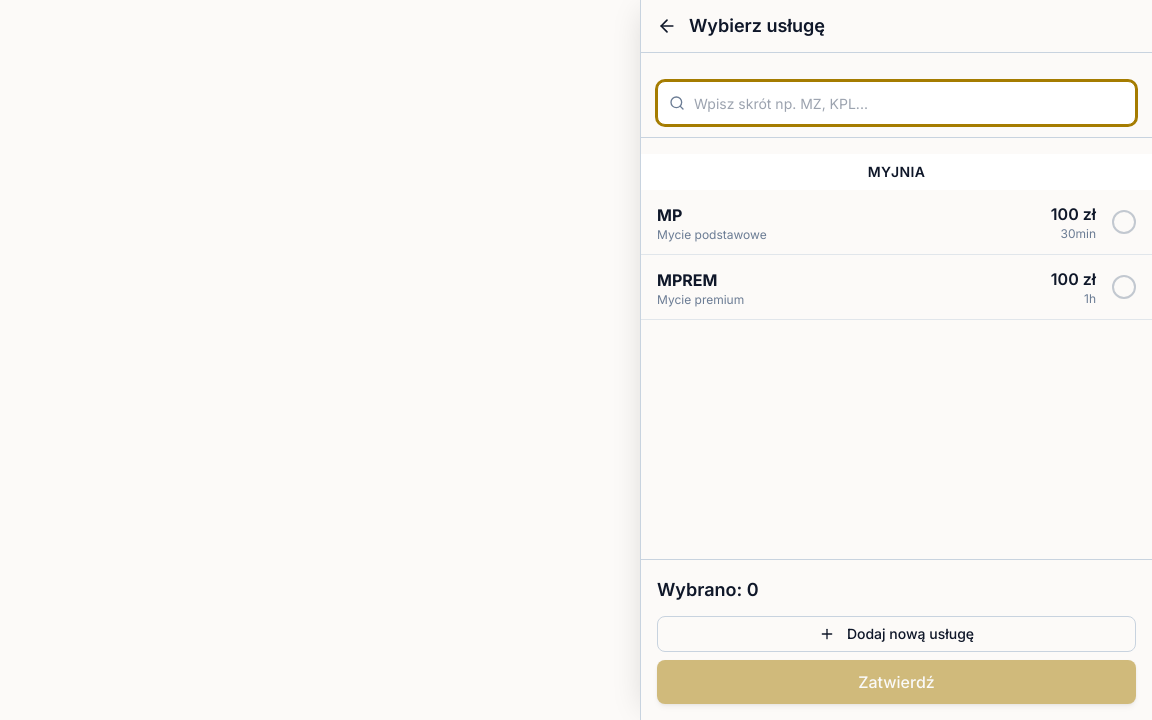
it: ServiceSelectionDrawer › Search chips match only by short_name › shows matching chip when searching by exact short_name
This screenshot has width=1152, height=720.
Expected: the text "Myjnia" is shown, [868,163,925,180]
Type "MP" into the search field with placeholder "Wpisz skrót np. MZ, KPL..." at (896,103), box [657,81,1136,125]
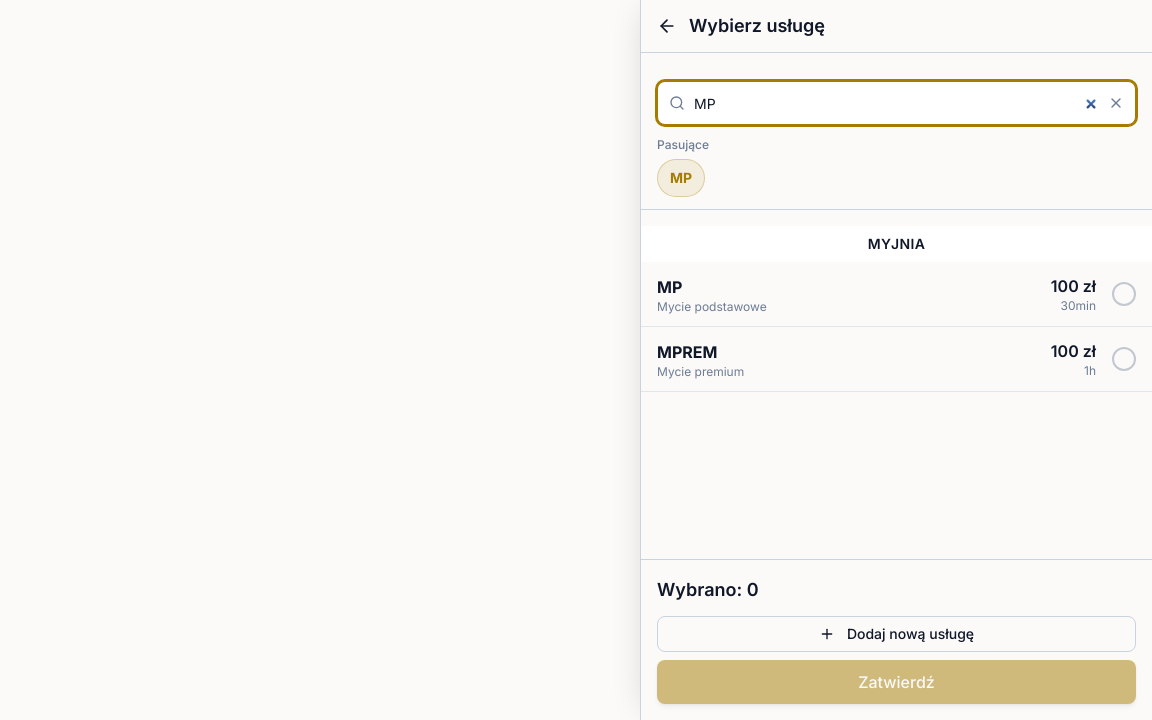
Expected: the text "Pasujące" is shown, [657,137,709,152]
